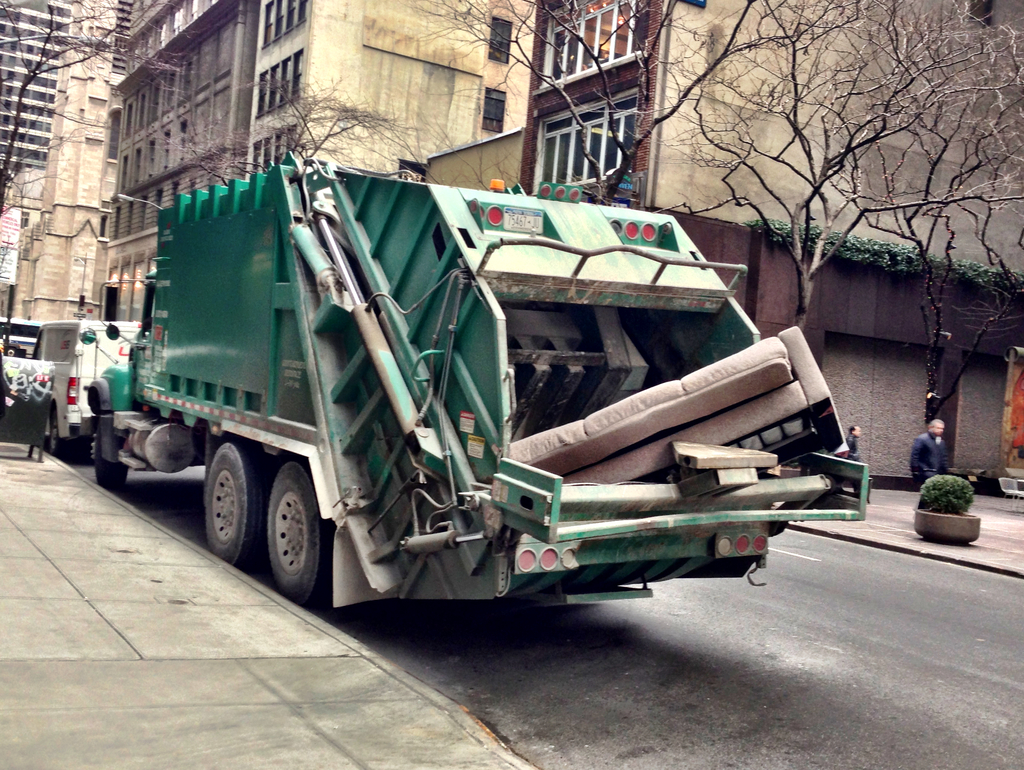truck: (79, 157, 894, 636), (18, 306, 138, 463)
